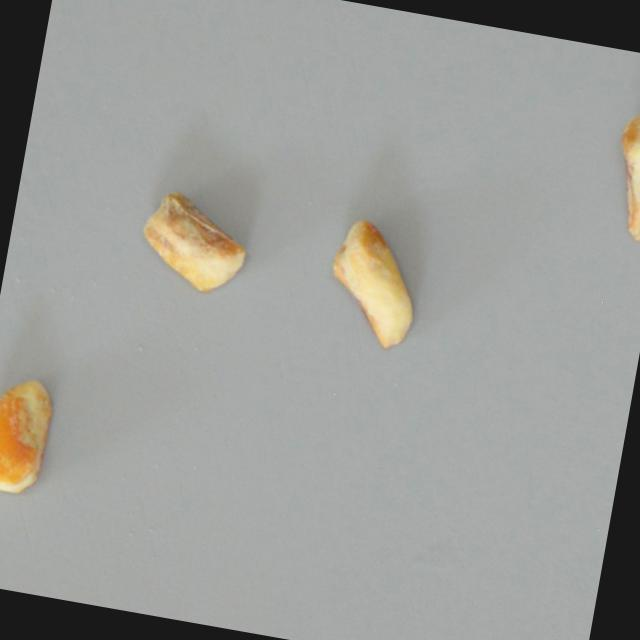dañado: (312, 210, 431, 351), (131, 184, 253, 299), (0, 371, 64, 501), (598, 107, 640, 234)
